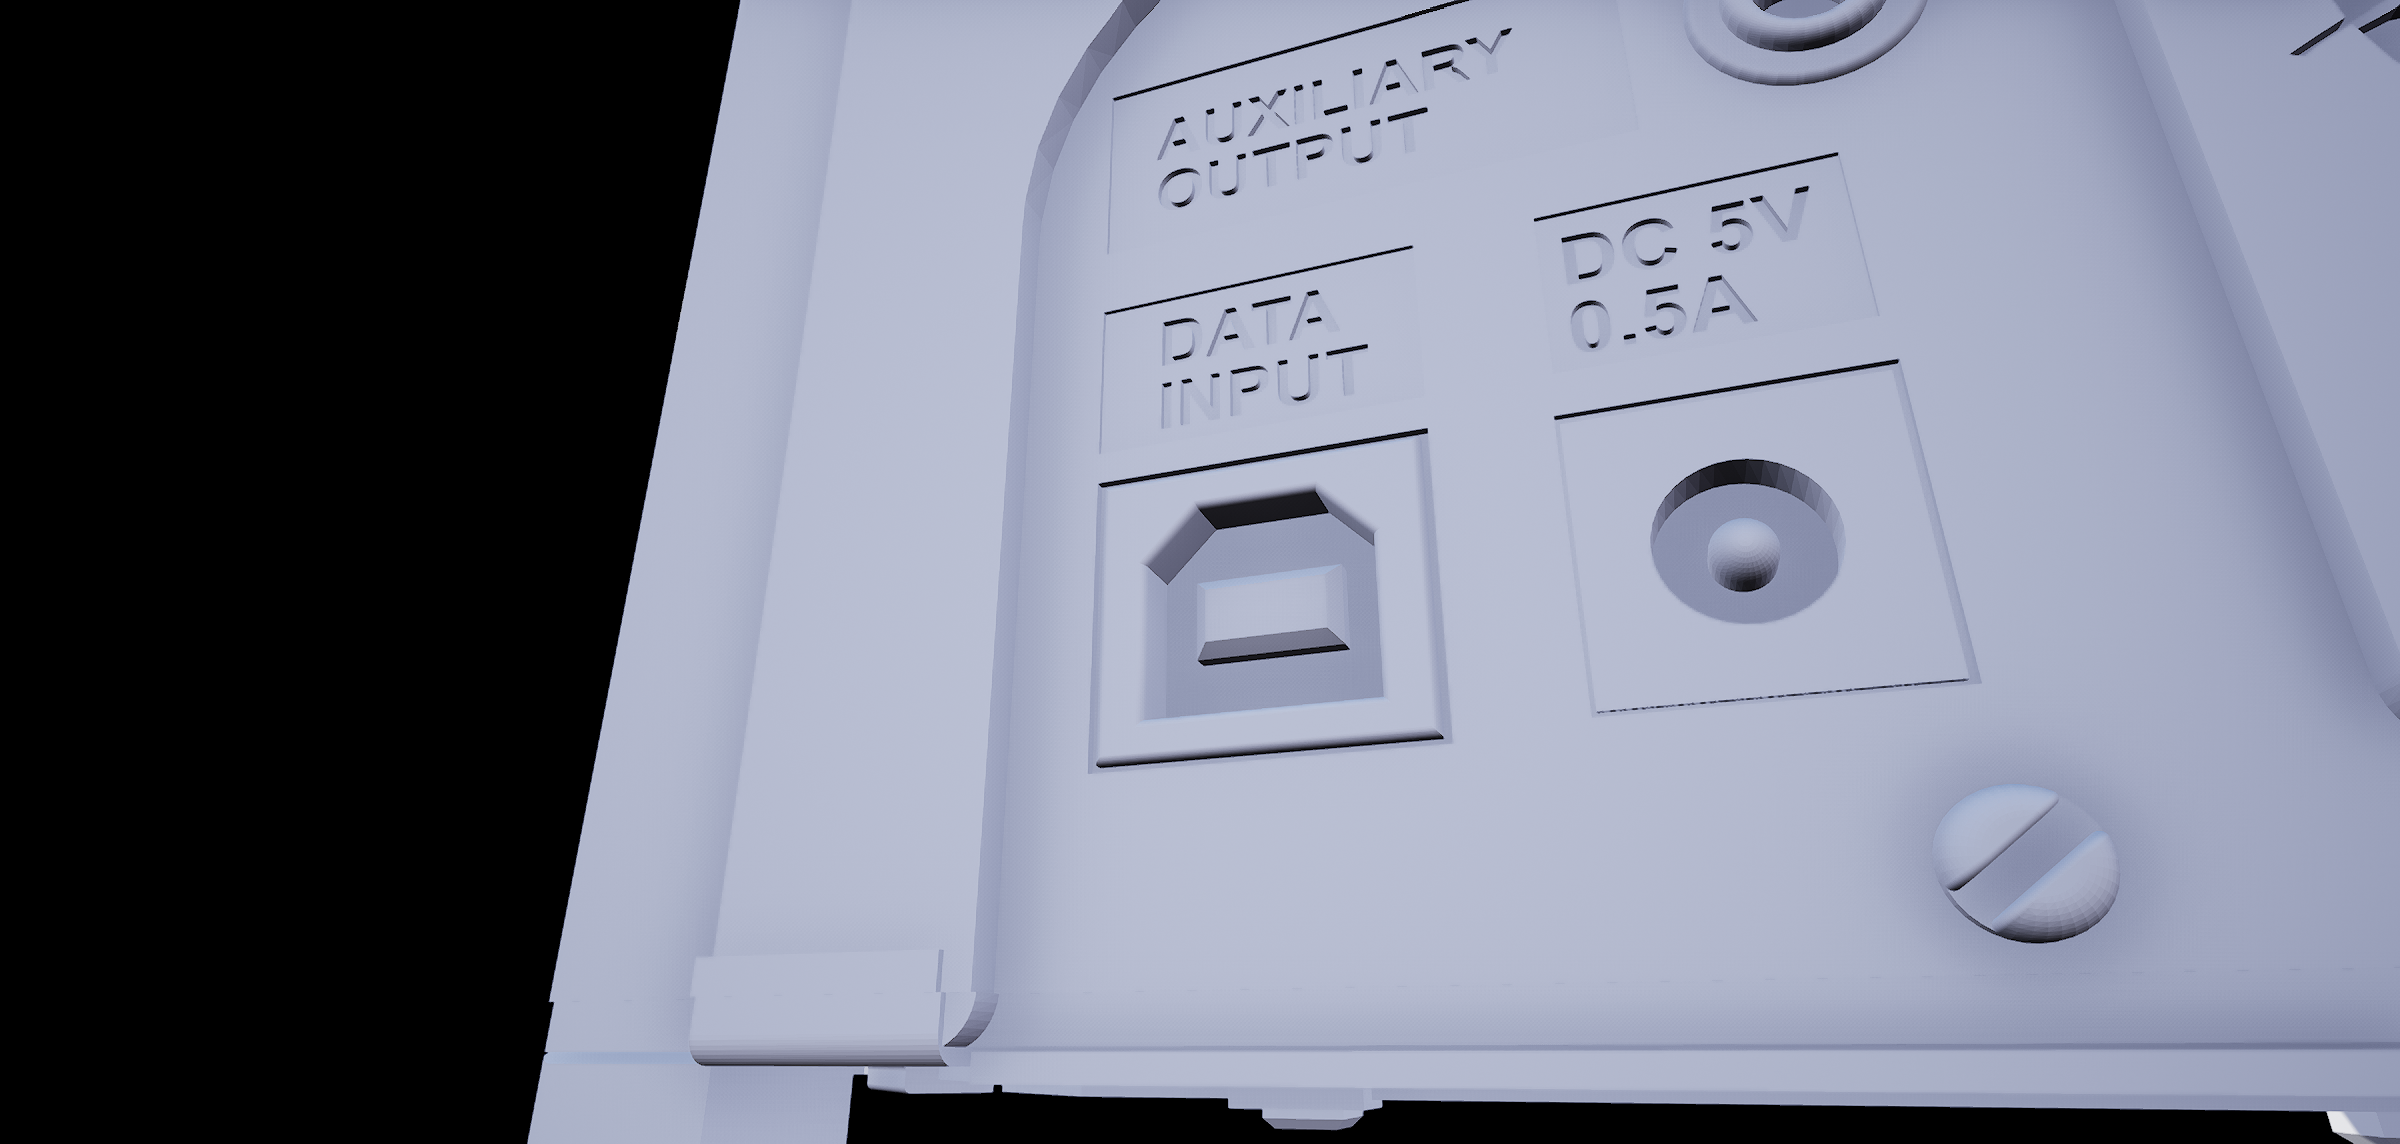aux: (1678, 2, 1938, 90)
dc: (1627, 449, 1861, 642)
usb: (1142, 484, 1404, 737)
